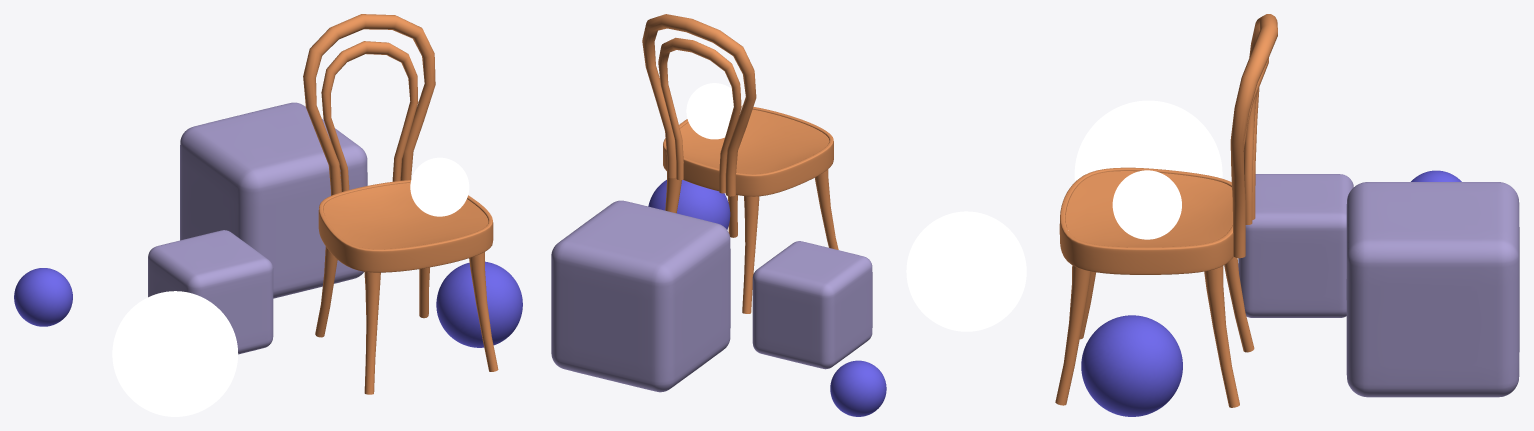
The model's file is itemshop.glb.
3 renders of one model, left to right at view 1: azimuth 30°, elevation 25°; view 2: azimuth 150°, elevation 25°; view 3: azimuth 270°, elevation 25°, orthographic. The views are drawn at different scales.
Parts seen in each view (by area): view 1: Roundcube.004, Roundcube, Roundcube.003, Circle, Vert.001, Roundcube.002, Circle.001, Vert, Vert.002, Roundcube.001, Roundcube.005; view 2: Roundcube.004, Roundcube.003, Roundcube, Circle, Vert.001, Circle.001, Vert, Vert.002, Roundcube.005, Roundcube.001, Roundcube.002; view 3: Roundcube.004, Roundcube.003, Roundcube, Roundcube.002, Circle, Circle.001, Vert, Vert.001, Roundcube.001, Vert.002, Roundcube.005.
Part boxes in pixels (left/top/right/bottom): Roundcube.004: left=180, top=102, right=367, bottom=298; Roundcube: left=112, top=291, right=238, bottom=416; Roundcube.003: left=148, top=230, right=273, bottom=354; Circle: left=323, top=183, right=488, bottom=249; Vert.001: left=303, top=14, right=435, bottom=195; Roundcube.002: left=436, top=261, right=522, bottom=347; Circle.001: left=318, top=180, right=493, bottom=272; Vert: left=315, top=246, right=498, bottom=394; Vert.002: left=321, top=41, right=418, bottom=191; Roundcube.001: left=410, top=157, right=469, bottom=216; Roundcube.005: left=14, top=268, right=72, bottom=326; Roundcube.004: left=551, top=200, right=730, bottom=392; Roundcube.003: left=752, top=241, right=872, bottom=369; Roundcube: left=906, top=211, right=1026, bottom=331; Circle: left=680, top=109, right=829, bottom=174; Vert.001: left=642, top=14, right=756, bottom=196; Circle.001: left=663, top=105, right=833, bottom=196; Vert: left=665, top=169, right=838, bottom=313; Vert.002: left=658, top=37, right=741, bottom=193; Roundcube.005: left=830, top=360, right=886, bottom=416; Roundcube.001: left=686, top=83, right=742, bottom=139; Roundcube.002: left=648, top=180, right=730, bottom=229; Roundcube.004: left=1346, top=182, right=1519, bottom=397; Roundcube.003: left=1238, top=174, right=1353, bottom=317; Roundcube: left=1074, top=100, right=1222, bottom=181; Roundcube.002: left=1081, top=315, right=1182, bottom=416; Circle: left=1065, top=171, right=1232, bottom=247; Circle.001: left=1059, top=167, right=1233, bottom=274; Vert: left=1055, top=257, right=1254, bottom=407; Vert.001: left=1230, top=14, right=1277, bottom=258; Roundcube.001: left=1112, top=170, right=1181, bottom=239; Vert.002: left=1243, top=58, right=1268, bottom=224; Roundcube.005: left=1411, top=170, right=1461, bottom=181.
Size of the model in its own units: 1.31 by 0.9707 by 1.15.
